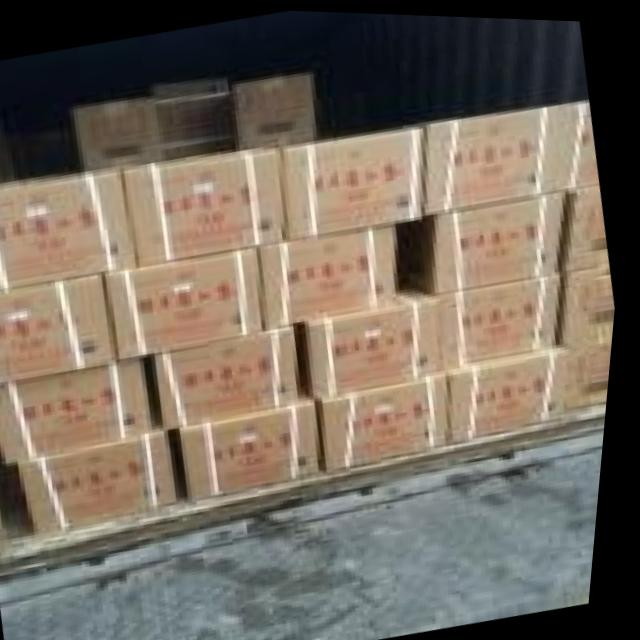box: (127, 145, 291, 267), (106, 244, 272, 360), (428, 96, 582, 212), (282, 121, 429, 237), (26, 428, 186, 534), (403, 189, 572, 289), (0, 170, 137, 292), (0, 359, 160, 463), (187, 398, 335, 497), (264, 219, 402, 325), (161, 323, 305, 423), (0, 273, 126, 386), (310, 294, 451, 394), (326, 371, 458, 469), (444, 268, 571, 363), (455, 346, 563, 444), (75, 94, 165, 171), (237, 71, 320, 148), (566, 260, 619, 342), (563, 339, 618, 408), (567, 183, 610, 269), (575, 95, 602, 185), (0, 124, 22, 183)
